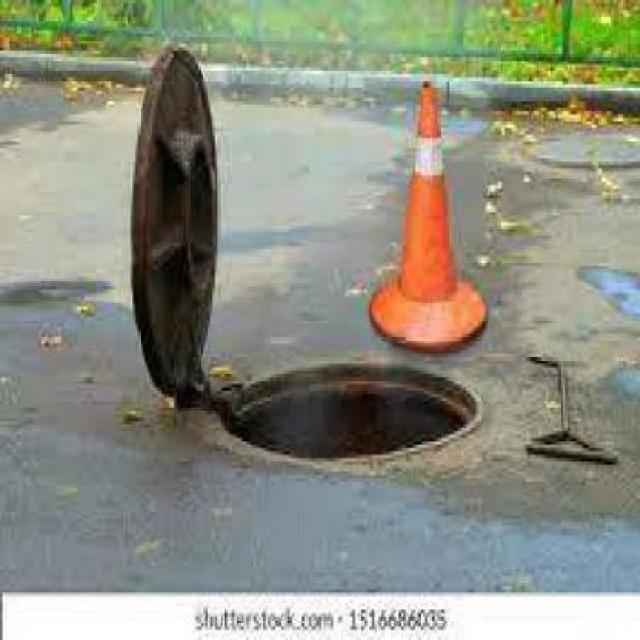Manhole: (518, 124, 640, 175)
Open Manhole: (223, 357, 486, 472)
